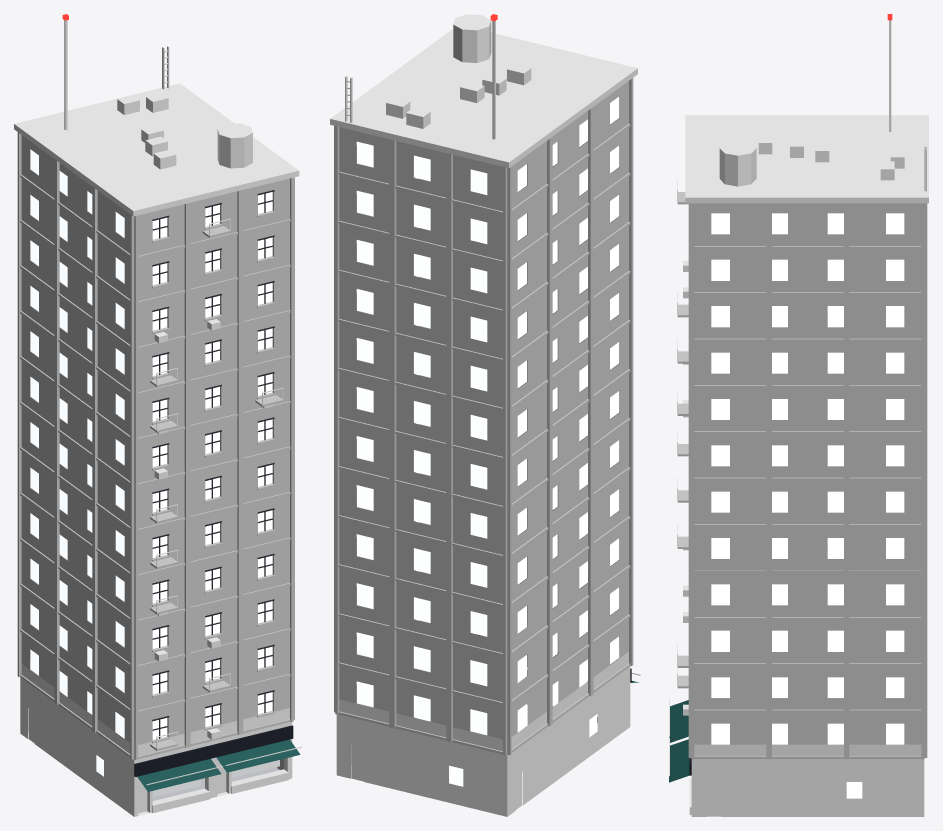
File: bld_neon_02_a.glb
The picture shows the model from 3 angles, left to right: view 1: azimuth 30°, elevation 25°; view 2: azimuth 150°, elevation 25°; view 3: azimuth 270°, elevation 25°; orthographic projection. The views are drawn at different scales.
Parts seen in each view (by area): view 1: LOD0; view 2: LOD0; view 3: LOD0.
Boxes of the visible parts, x1=… form: LOD0: x1=14, y1=14, x2=301, y2=816; LOD0: x1=330, y1=14, x2=640, y2=816; LOD0: x1=669, y1=14, x2=928, y2=816.
Size of what is drawn, in the model's own units: 12.6 by 52.5 by 16.75.
